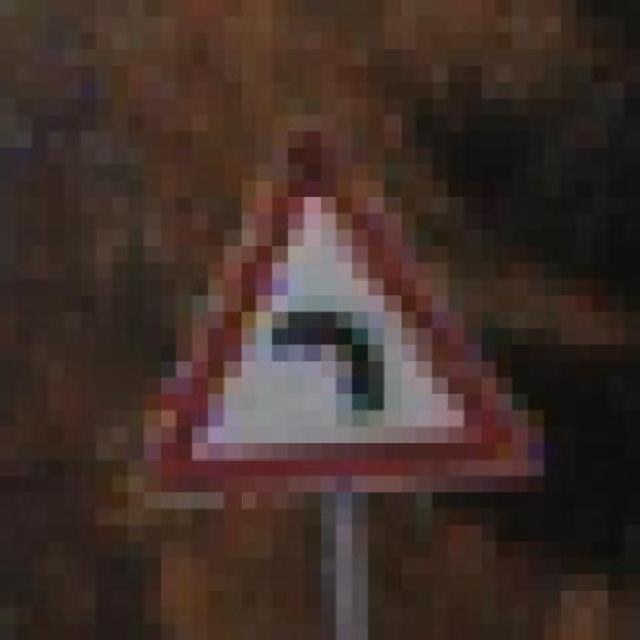Dangerous Left Curve Ahead: (112, 98, 560, 510)
